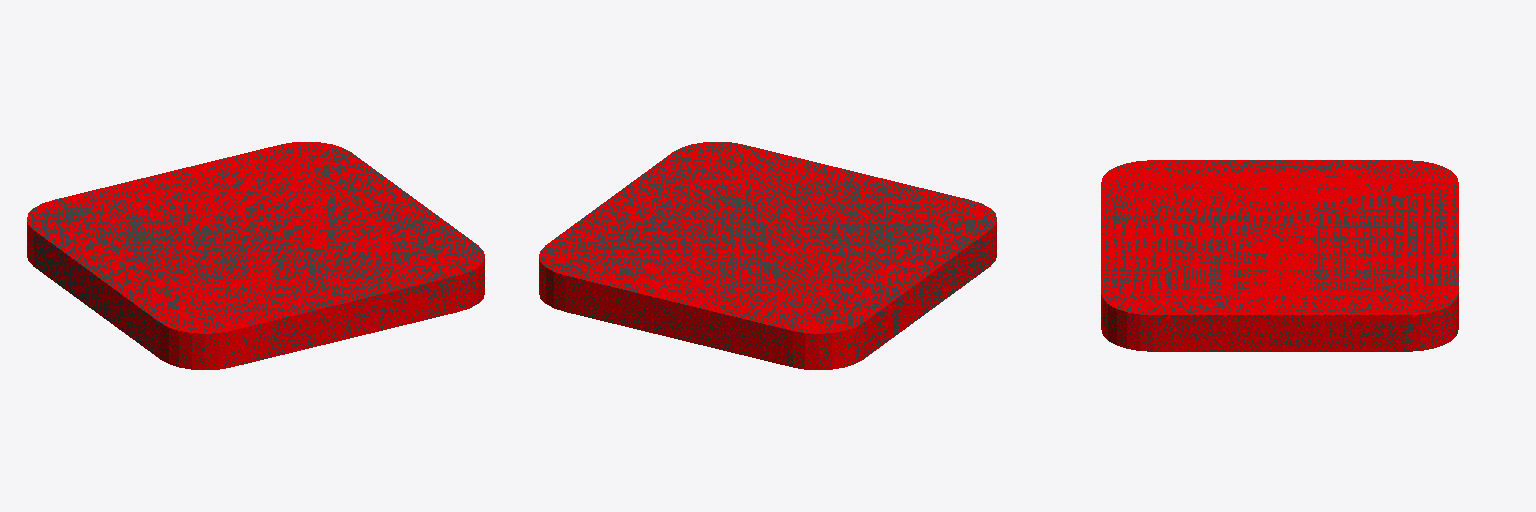
File: original-17.obj
3 views of the same model, side by side, from view 1: azimuth 30°, elevation 25°; view 2: azimuth 150°, elevation 25°; view 3: azimuth 270°, elevation 25° (orthographic).
Parts seen in each view (by area): view 1: mesh16/mesh16-geometry#mesh16-geometry; view 2: mesh16/mesh16-geometry#mesh16-geometry; view 3: mesh16/mesh16-geometry#mesh16-geometry.
Part boxes in pixels (left/top/right/bottom): mesh16/mesh16-geometry#mesh16-geometry: left=27, top=142, right=484, bottom=369; mesh16/mesh16-geometry#mesh16-geometry: left=539, top=142, right=996, bottom=369; mesh16/mesh16-geometry#mesh16-geometry: left=1101, top=160, right=1458, bottom=351.
Size of the model in its own units: 0.0583 by 0.0064 by 0.0568.